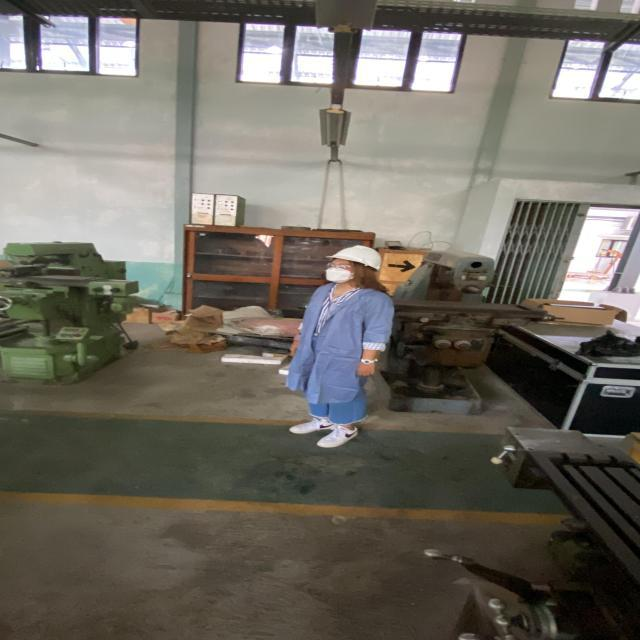glasses: (324, 262, 354, 272)
